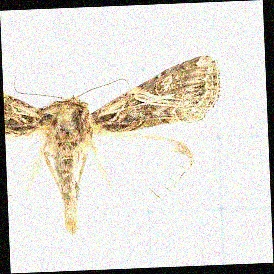Spodoptera litura: (6, 59, 225, 235)
